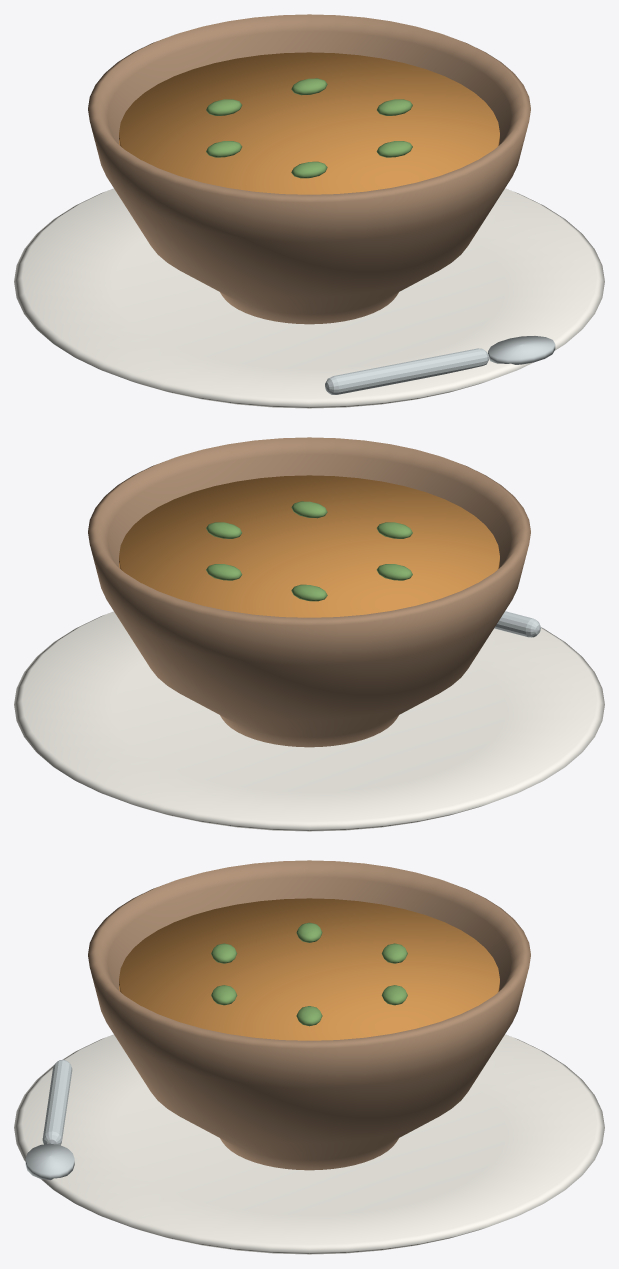
The model's file is FoodSoup.fbx.
3 renders of one model, top to bottom at view 1: azimuth 30°, elevation 25°; view 2: azimuth 150°, elevation 25°; view 3: azimuth 270°, elevation 25°, orthographic.
Visible parts, largest first — view 1: Dish white saucer, Dish earthenware soup bowl, Soup liquid, Dish soup spoon, Dish soup spoon bowl; view 2: Dish white saucer, Dish earthenware soup bowl, Soup liquid, Dish soup spoon; view 3: Dish white saucer, Dish earthenware soup bowl, Soup liquid, Dish soup spoon, Dish soup spoon bowl.
Boxes of the visible parts, left/top/right/bottom form: Dish white saucer: left=14, top=188, right=604, bottom=408; Dish earthenware soup bowl: left=88, top=14, right=530, bottom=324; Soup liquid: left=119, top=52, right=499, bottom=194; Dish soup spoon: left=325, top=348, right=488, bottom=394; Dish soup spoon bowl: left=488, top=336, right=555, bottom=364; Dish white saucer: left=14, top=611, right=604, bottom=831; Dish earthenware soup bowl: left=88, top=437, right=530, bottom=747; Soup liquid: left=119, top=475, right=499, bottom=617; Dish soup spoon: left=494, top=611, right=540, bottom=637; Dish white saucer: left=14, top=1034, right=604, bottom=1254; Dish earthenware soup bowl: left=88, top=860, right=530, bottom=1170; Soup liquid: left=119, top=898, right=499, bottom=1040; Dish soup spoon: left=42, top=1059, right=72, bottom=1145; Dish soup spoon bowl: left=25, top=1143, right=74, bottom=1180.
Bounding box in the file's own units: 36 × 13.3 × 36.
